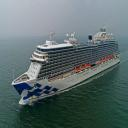cruises: (11, 23, 122, 101)
